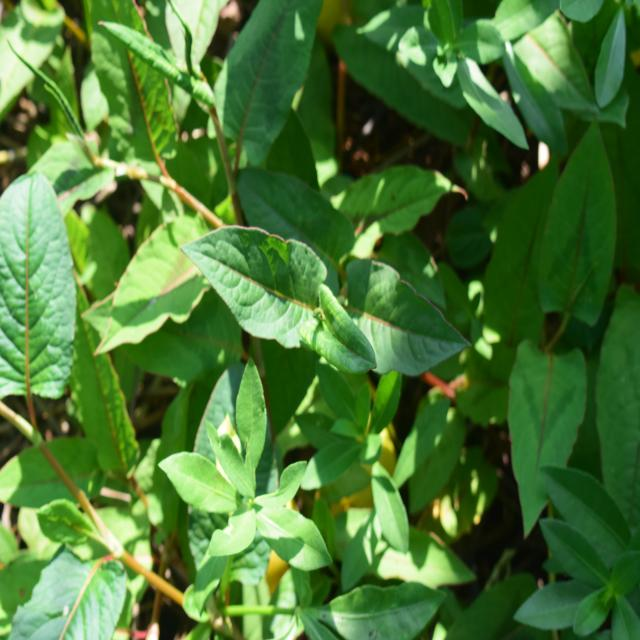Chinese_knotweed: (162, 186, 480, 428)
